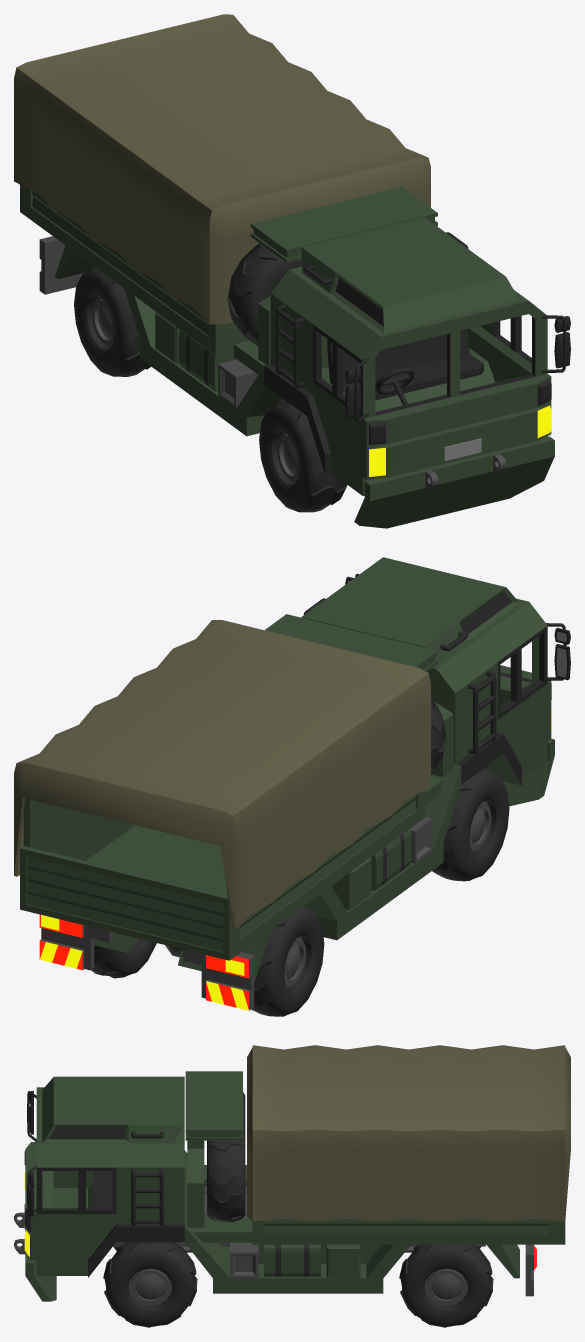
Rendered from Lorry.fbx.
3 renders of one model, top to bottom at view 1: azimuth 30°, elevation 25°; view 2: azimuth 150°, elevation 25°; view 3: azimuth 270°, elevation 25°, orthographic. The views are drawn at different scales.
Parts seen in each view (by area): view 1: Cube.019, Cube.002, Cube.004, Cube.001, Lorry Front Wheel, Lorry Back Wheel, Cube.017, Cube.003, Lorry Back Up Wheel, Cube.011, Cube.008, Lorry Side Ladder (+5 smaller); view 2: Cube.019, Cube.002, Cube.021, Cube.003, Lorry Back Wheel, Lorry Front Wheel, Cube.001, Cube.022, Cube.011, Cube.020, Lorry Side Ladder, Cube.008 (+4 smaller); view 3: Cube.019, Cube.002, Cube.001, Lorry Front Wheel, Lorry Back Wheel, Cube.011, Cube.003, Lorry Back Up Wheel, Cube.008, Lorry Side Ladder, Cube.016, Cube.018 (+5 smaller).
Boxes of the visible parts, x1=… form: Cube.019: x1=14, y1=14, x2=430, y2=324; Cube.002: x1=55, y1=217, x2=570, y2=495; Cube.004: x1=354, y1=436, x2=554, y2=528; Cube.001: x1=234, y1=187, x2=437, y2=374; Lorry Front Wheel: x1=259, y1=398, x2=347, y2=512; Lorry Back Wheel: x1=74, y1=266, x2=151, y2=376; Cube.017: x1=327, y1=329, x2=483, y2=400; Cube.003: x1=23, y1=187, x2=249, y2=354; Lorry Back Up Wheel: x1=227, y1=243, x2=301, y2=345; Cube.011: x1=32, y1=191, x2=208, y2=335; Cube.008: x1=179, y1=330, x2=236, y2=391; Lorry Side Ladder: x1=276, y1=232, x2=468, y2=387; Cube.019: x1=14, y1=620, x2=430, y2=929; Cube.002: x1=94, y1=557, x2=570, y2=981; Cube.021: x1=20, y1=846, x2=232, y2=960; Cube.003: x1=23, y1=790, x2=424, y2=957; Lorry Back Wheel: x1=91, y1=905, x2=324, y2=1016; Lorry Front Wheel: x1=432, y1=767, x2=509, y2=881; Cube.001: x1=265, y1=614, x2=453, y2=805; Cube.022: x1=39, y1=914, x2=250, y2=1010; Cube.011: x1=240, y1=795, x2=416, y2=938; Cube.020: x1=41, y1=925, x2=254, y2=1009; Lorry Side Ladder: x1=303, y1=598, x2=496, y2=753; Cube.008: x1=371, y1=829, x2=411, y2=890; Cube.019: x1=247, y1=1045, x2=570, y2=1221; Cube.002: x1=24, y1=1076, x2=519, y2=1293; Cube.001: x1=185, y1=1071, x2=252, y2=1242; Lorry Front Wheel: x1=103, y1=1242, x2=197, y2=1327; Lorry Back Wheel: x1=399, y1=1244, x2=493, y2=1327; Cube.011: x1=264, y1=1219, x2=548, y2=1233; Cube.003: x1=252, y1=1220, x2=559, y2=1244; Lorry Back Up Wheel: x1=207, y1=1092, x2=245, y2=1222; Cube.008: x1=264, y1=1244, x2=320, y2=1276; Lorry Side Ladder: x1=131, y1=1131, x2=163, y2=1225; Cube.016: x1=326, y1=1244, x2=360, y2=1277; Cube.018: x1=230, y1=1242, x2=258, y2=1278.
Bounding box in the file's own units: 3.64 × 4.03 × 9.8.
